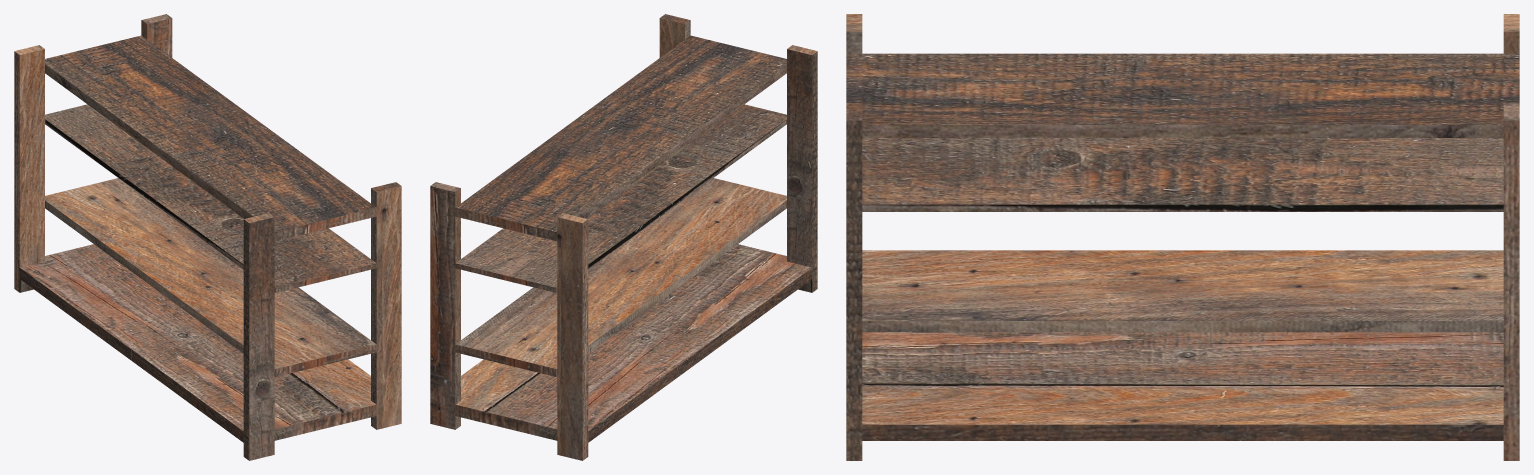
File: StorageRack.fbx
The picture shows the model from 3 angles, left to right: view 1: azimuth 30°, elevation 25°; view 2: azimuth 150°, elevation 25°; view 3: azimuth 270°, elevation 25°; orthographic projection. The views are drawn at different scales.
Parts seen in each view (by area): view 1: Cube.009; view 2: Cube.009; view 3: Cube.009.
Part boxes in pixels (<box>): Cube.009: <box>14,14,401,460</box>; Cube.009: <box>430,14,817,460</box>; Cube.009: <box>846,14,1519,460</box>.
Bounding box in the file's own units: 81.6 × 122 × 218.
1 material, 1 textured.
